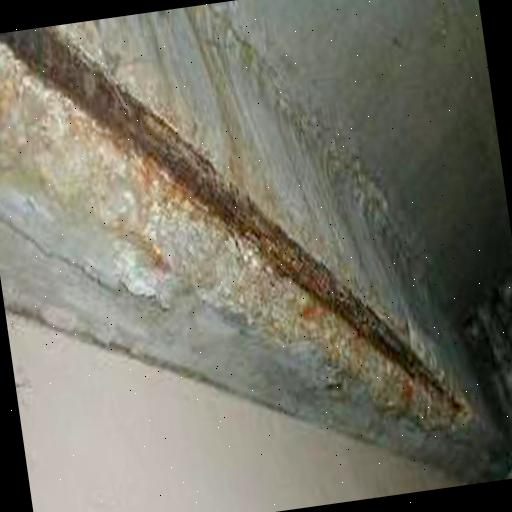spalling: (0, 24, 473, 432)
